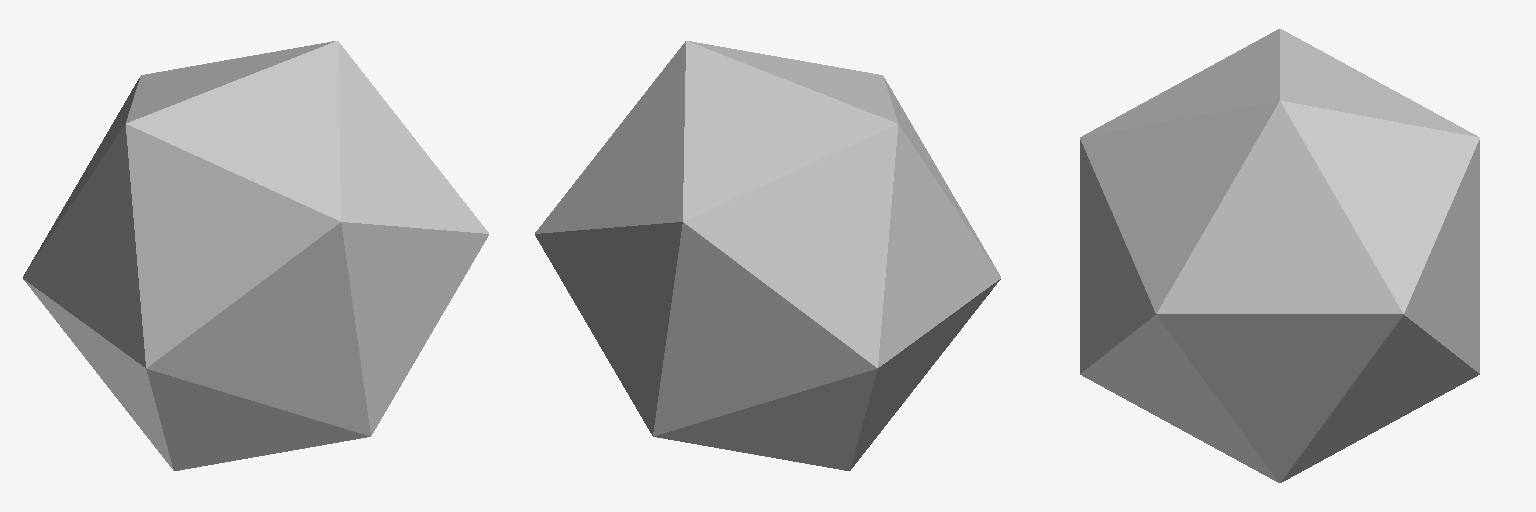
Rendered from penta5.obj.
The picture shows the model from 3 angles: view 1: azimuth 30°, elevation 25°; view 2: azimuth 150°, elevation 25°; view 3: azimuth 270°, elevation 25°; orthographic projection.
Visible parts, largest first — view 1: penta-2_Icosphere.002; view 2: penta-2_Icosphere.002; view 3: penta-2_Icosphere.002.
Part boxes in pixels (left/top/right/bottom): penta-2_Icosphere.002: left=23, top=41, right=488, bottom=470; penta-2_Icosphere.002: left=535, top=41, right=1000, bottom=470; penta-2_Icosphere.002: left=1080, top=29, right=1479, bottom=482.
Bounding box in the file's own units: 2.78 × 3.02 × 2.81.